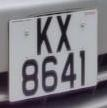1: (76, 49, 89, 92)
4: (59, 49, 79, 94)
6: (39, 52, 62, 98)
8: (20, 54, 41, 99)
K: (33, 15, 58, 57)
X: (54, 11, 74, 56)
